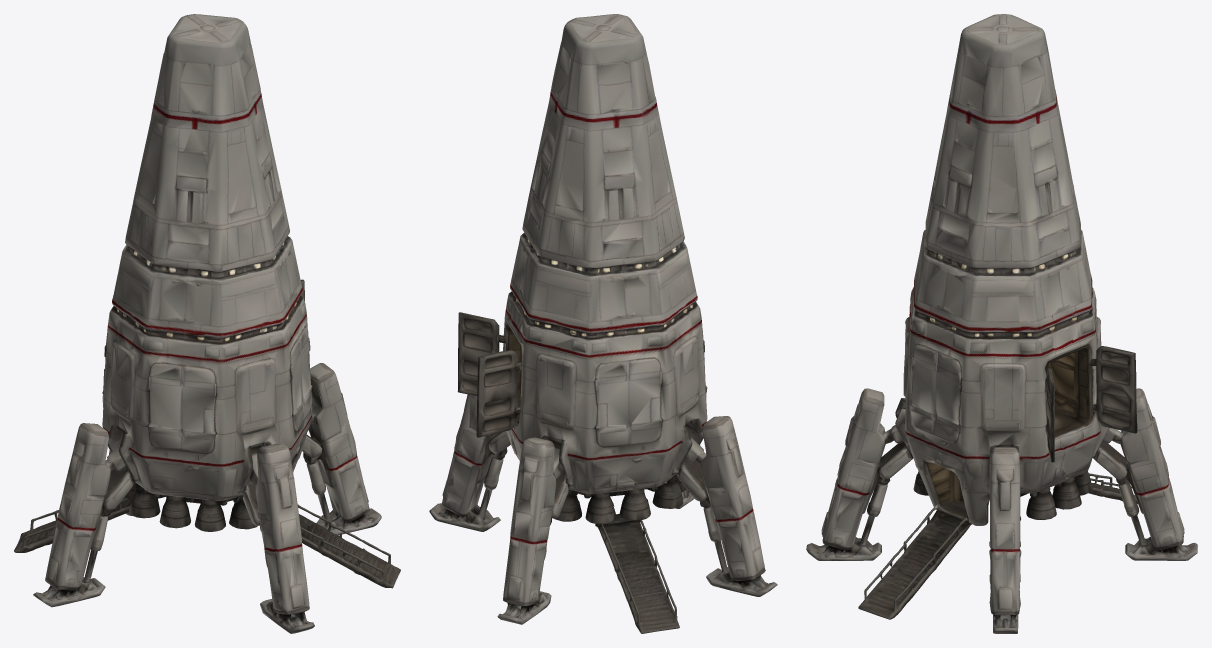
Rendered from haven-ark.glb.
The picture shows the model from 3 angles, left to right: view 1: azimuth 30°, elevation 25°; view 2: azimuth 150°, elevation 25°; view 3: azimuth 270°, elevation 25°; orthographic projection.
Parts seen in each view (by area): view 1: tripo_node_2cae9b49-19c8-4170-a89d-4233f4e1f65b; view 2: tripo_node_2cae9b49-19c8-4170-a89d-4233f4e1f65b; view 3: tripo_node_2cae9b49-19c8-4170-a89d-4233f4e1f65b.
Part boxes in pixels (x1,y1,x2,y2): tripo_node_2cae9b49-19c8-4170-a89d-4233f4e1f65b: (14,14,400,633); tripo_node_2cae9b49-19c8-4170-a89d-4233f4e1f65b: (429,14,777,633); tripo_node_2cae9b49-19c8-4170-a89d-4233f4e1f65b: (806,14,1197,633).
Bounding box in the file's own units: 0.6696 × 0.9997 × 0.6725.
1 material, 1 textured.
